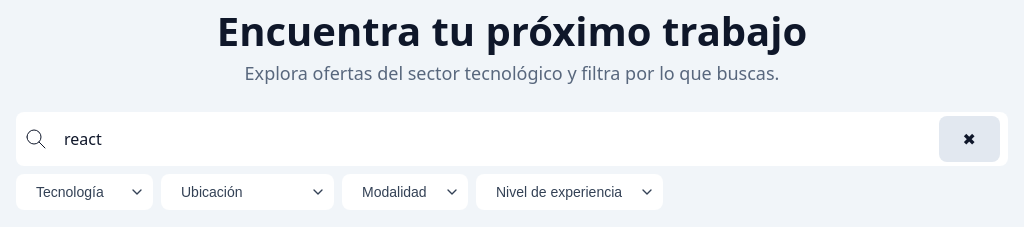
Test: SearchFormSection › el botón de limpiar vacía el campo y la búsqueda
This screenshot has width=1024, height=227.
Click the button named "Limpiar búsqueda" at coordinates (969, 139), box [939,116,1000,162]
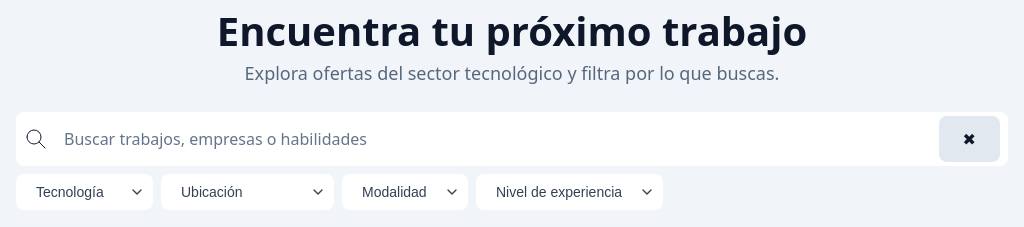
Expected: the search field named "Buscar empleos" is empty, [56,116,931,162]
